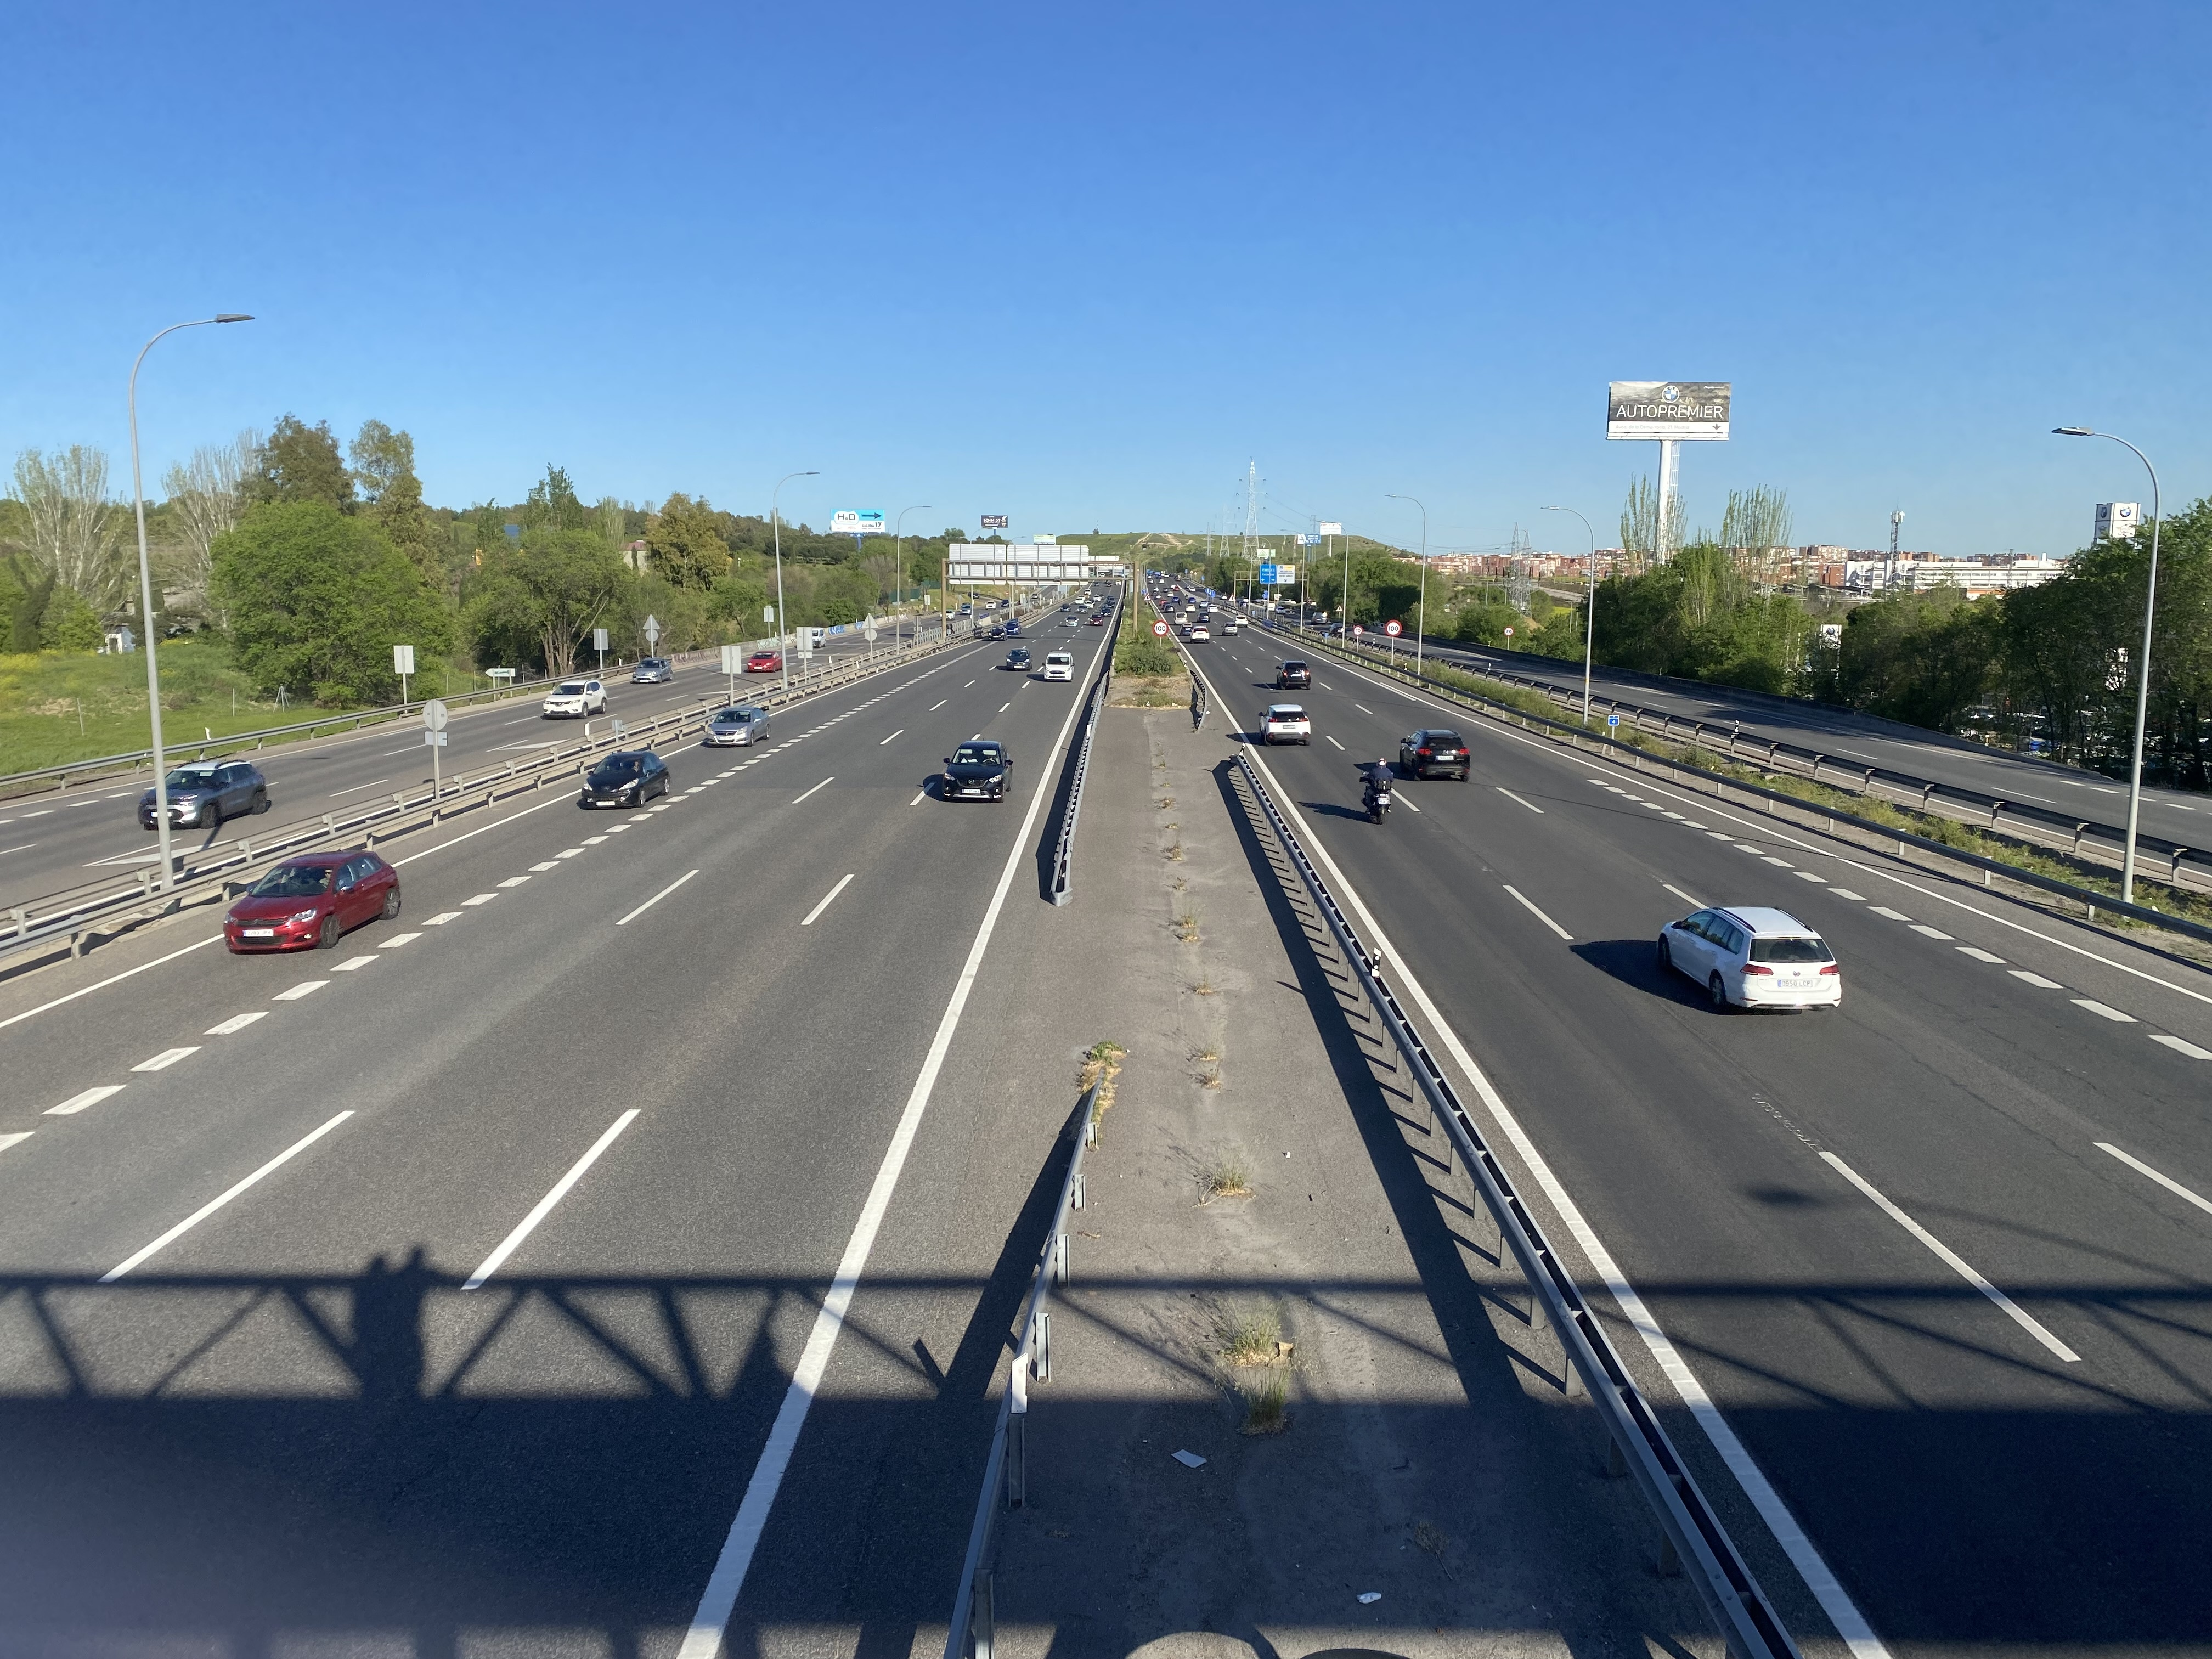cars: (1658, 906, 1841, 1009), (223, 849, 401, 953), (927, 739, 1012, 802), (580, 751, 669, 809), (1397, 728, 1470, 781), (702, 702, 768, 746), (542, 678, 606, 718), (1357, 758, 1393, 823), (1259, 704, 1312, 744), (631, 657, 672, 683), (1275, 660, 1312, 688), (1040, 652, 1073, 681), (744, 650, 782, 674), (1001, 647, 1031, 671), (1184, 624, 1211, 641)
